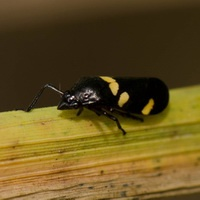insect: (27, 76, 168, 134)
